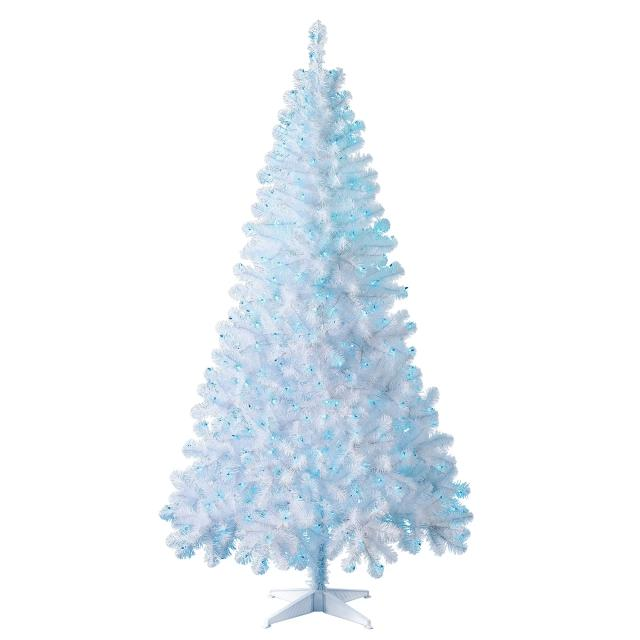Christmas-tree: (112, 16, 510, 629)
